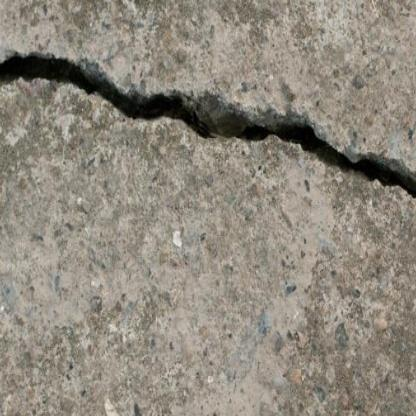Cracks: (0, 50, 416, 210)
